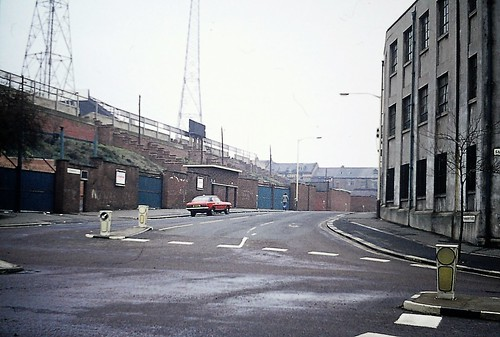building: (374, 1, 500, 233)
car: (183, 191, 237, 215)
sidewalk: (334, 205, 500, 279)
sky: (27, 1, 363, 160)
street: (1, 204, 367, 337)
